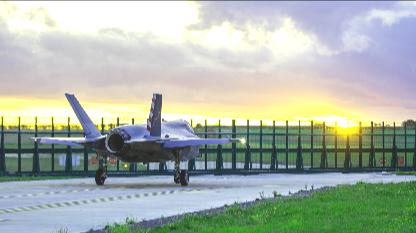F22: (29, 92, 248, 186)
